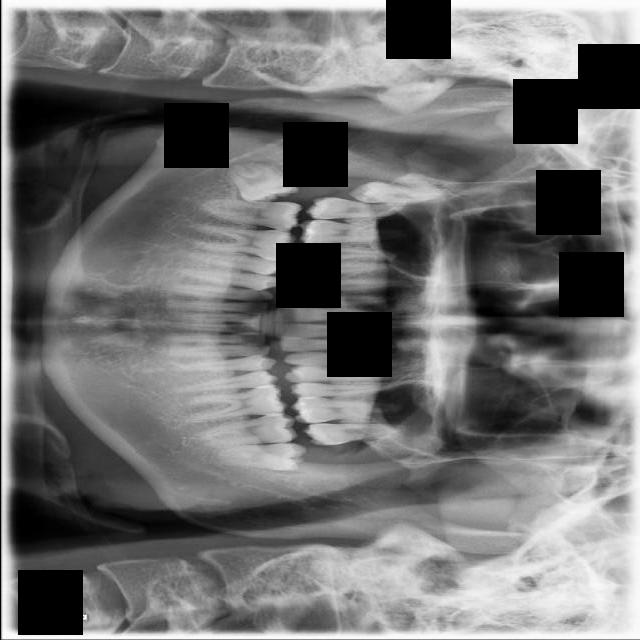3M ESPE Implant: (347, 181, 444, 205)
52: (297, 218, 336, 248), (290, 396, 330, 424)
73: (24, 624, 34, 632)
BioHorizons Implant: (301, 421, 407, 447)
Biomet 3i Implant: (215, 442, 306, 471)
Blue Sky Bio Implant: (197, 412, 298, 449)
Caries: (305, 197, 411, 220)
Implant: (200, 197, 303, 232)
Keystone Dental Implant: (218, 146, 300, 223)
